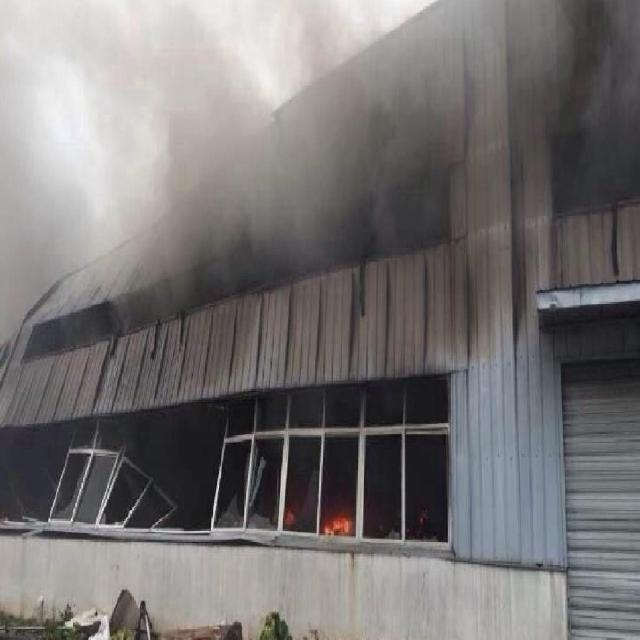Fire: (323, 516, 351, 538)
Smoke: (1, 1, 447, 331)
